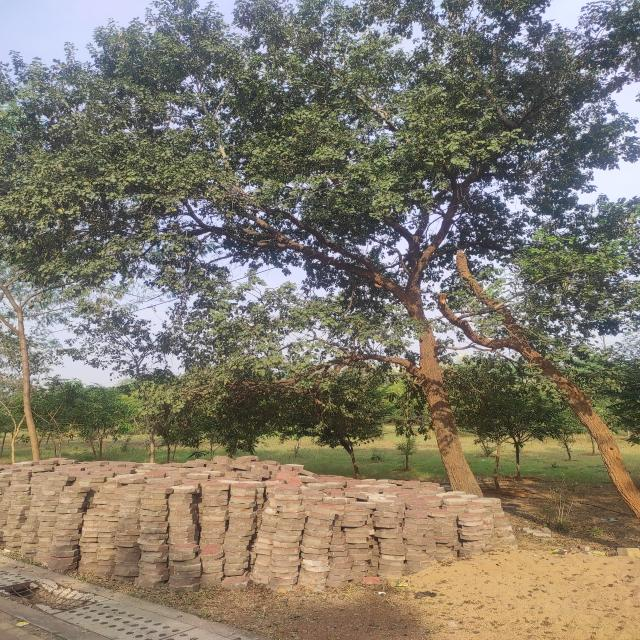Devakanchan tree: (19, 19, 609, 379)
